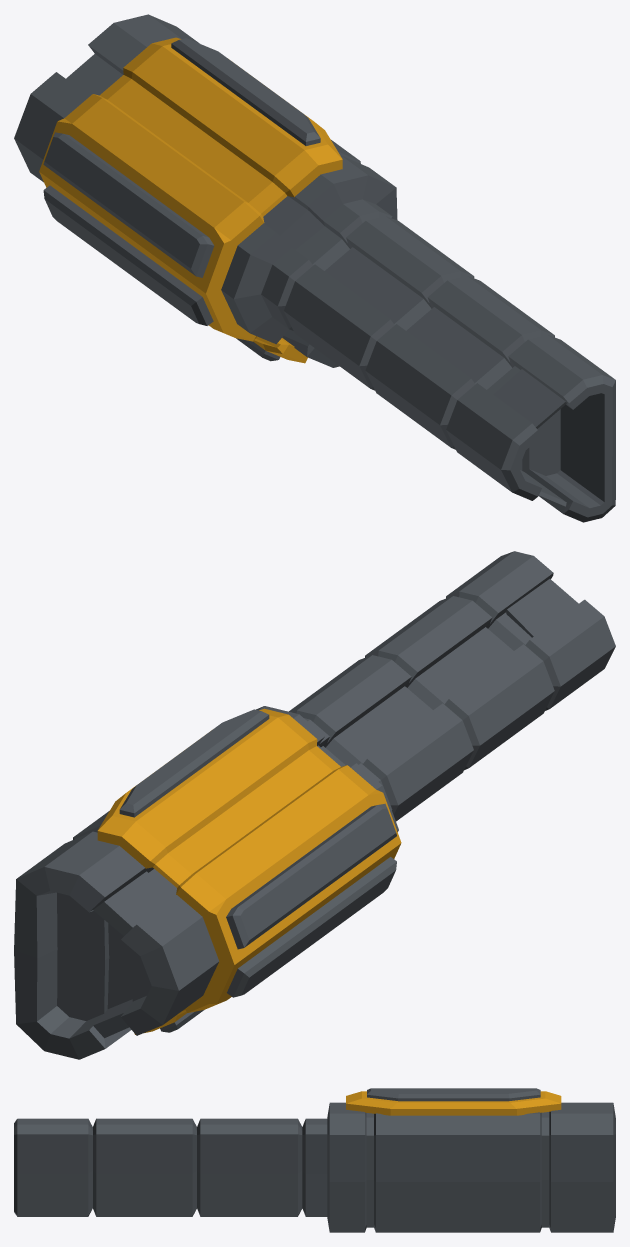
File: Fighter_10_Thruster_Right_Yellow.fbx
3 views of the same model, one above another, from view 1: azimuth 30°, elevation 25°; view 2: azimuth 150°, elevation 25°; view 3: azimuth 270°, elevation 25° (orthographic). The views are drawn at different scales.
Parts seen in each view (by area): view 1: Fighter_10_Thruster_Right_Yellow; view 2: Fighter_10_Thruster_Right_Yellow; view 3: Fighter_10_Thruster_Right_Yellow.
Boxes of the visible parts, x1,y1,x2,y2 form: Fighter_10_Thruster_Right_Yellow: [14, 14, 615, 522]; Fighter_10_Thruster_Right_Yellow: [14, 551, 615, 1059]; Fighter_10_Thruster_Right_Yellow: [14, 1088, 615, 1232].
Bounding box in the file's own units: 311 × 362 × 1360.
Materials: 2 (2 with a texture image).
